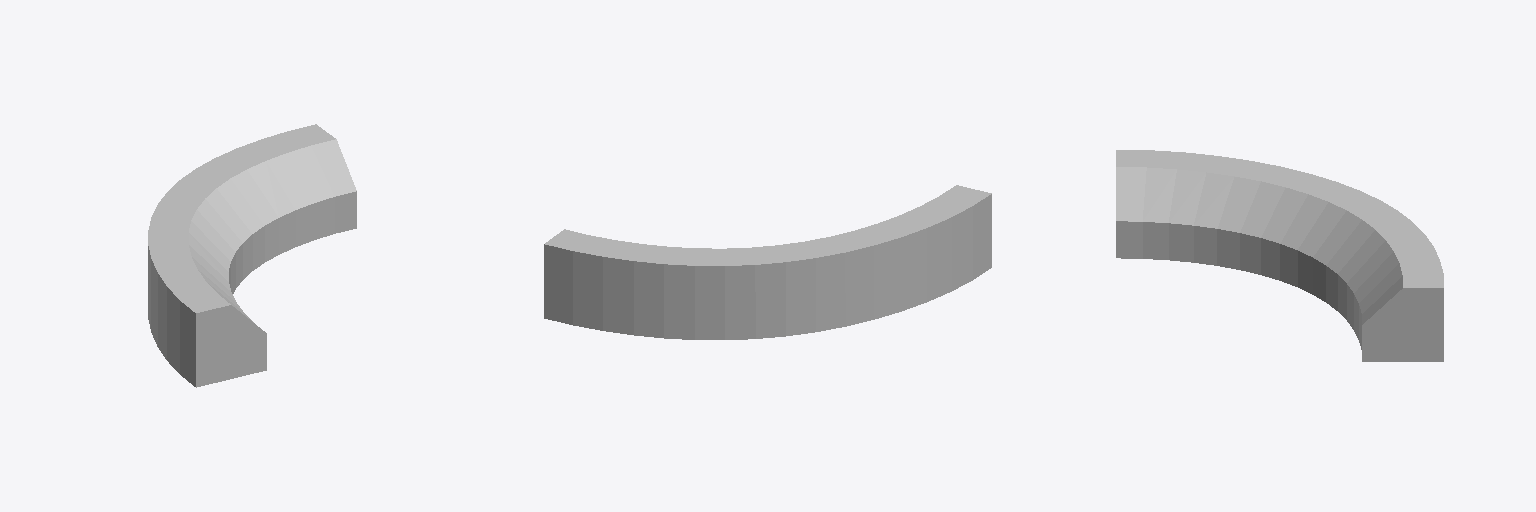
File: OutsideBend.obj
The picture shows the model from 3 angles: view 1: azimuth 30°, elevation 25°; view 2: azimuth 150°, elevation 25°; view 3: azimuth 270°, elevation 25°; orthographic projection.
Visible parts, largest first — view 1: outsideBend; view 2: outsideBend; view 3: outsideBend.
Part boxes in pixels (left/top/right/bottom): outsideBend: left=148, top=124, right=356, bottom=387; outsideBend: left=544, top=185, right=991, bottom=339; outsideBend: left=1116, top=150, right=1443, bottom=361.
Size of the model in its own units: 4 by 1 by 4.